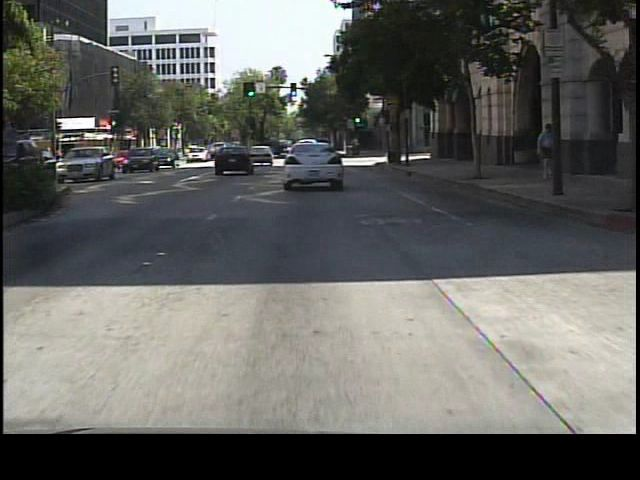person: (534, 122, 558, 187)
